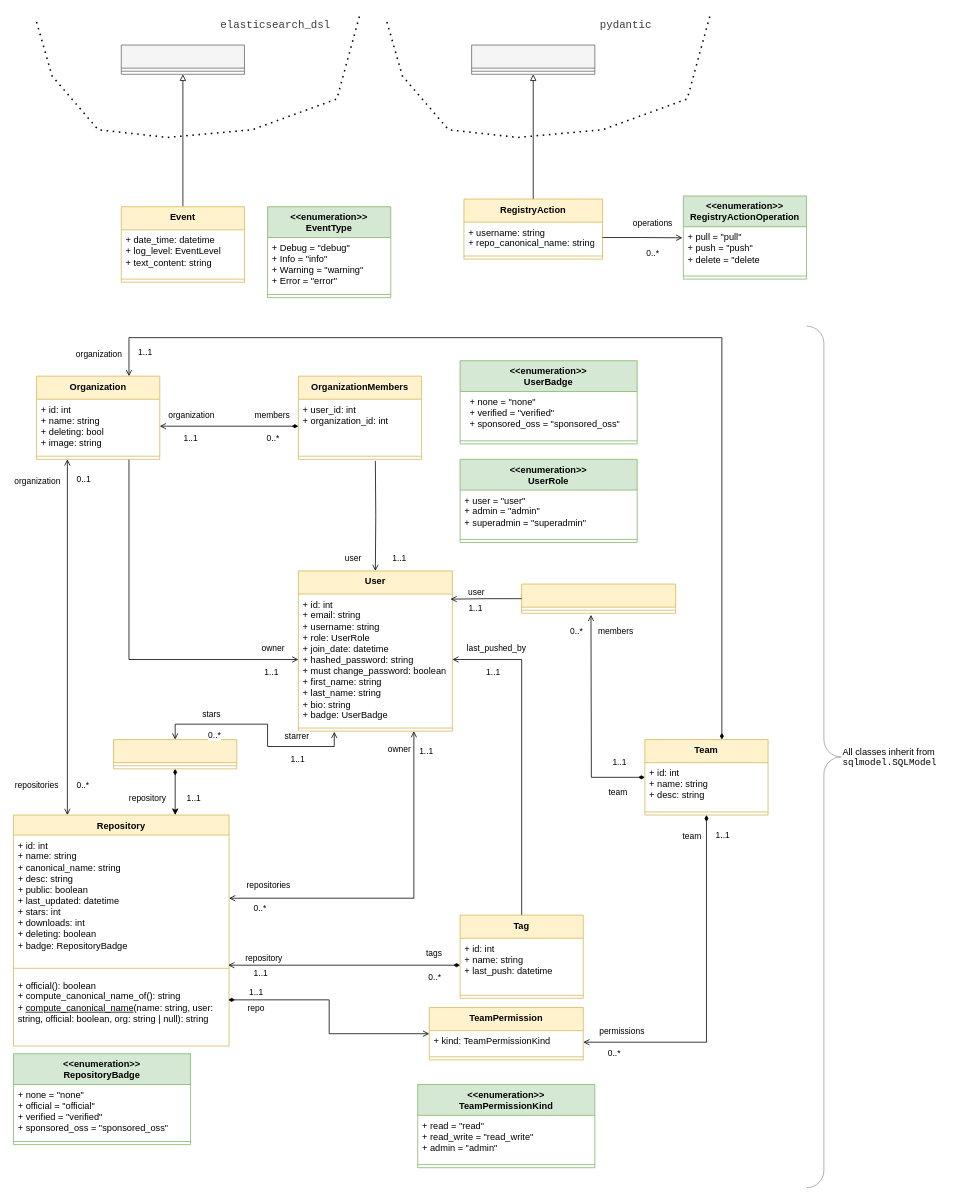
Some shapes in this 970 by 1201 pixel diagram are drawn without their labels. The centre of each missing label's shape, as x and y in pixels:
BaseModel: pixel 533 59
Document: pixel 182 59
RepositoryStar: pixel 175 754
TeamMember: pixel 598 598
